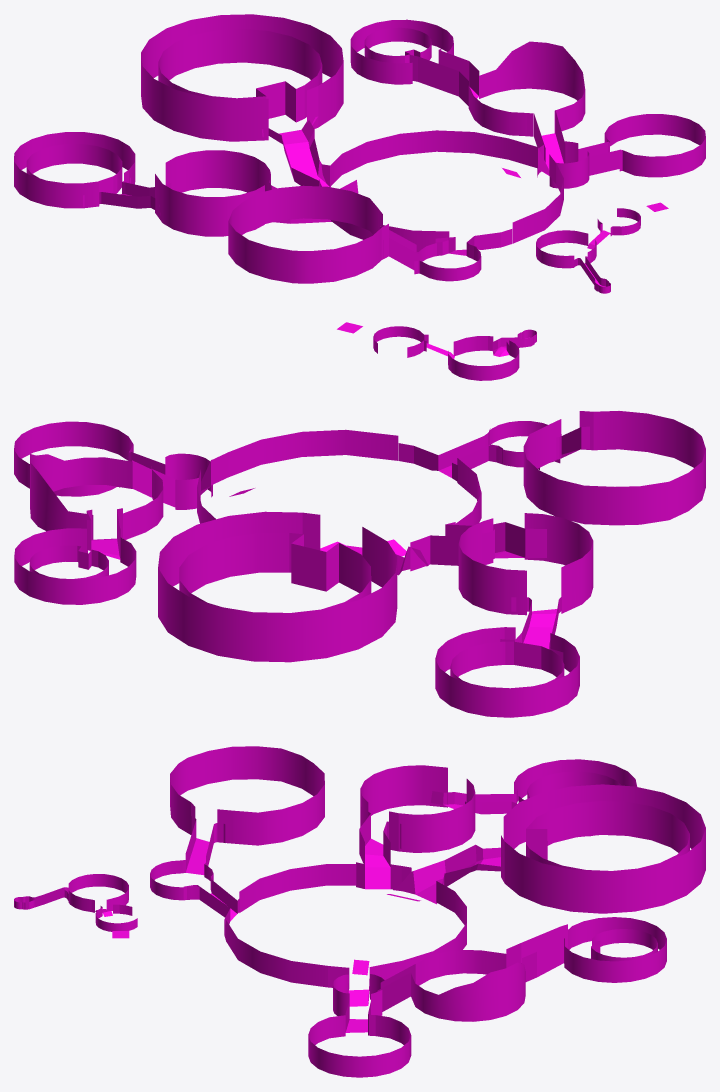
Rendered from meow.fbx.
3 views of the same model, one above another, from view 1: azimuth 30°, elevation 25°; view 2: azimuth 150°, elevation 25°; view 3: azimuth 270°, elevation 25° (orthographic). The views are drawn at different scales.
Parts seen in each view (by area): view 1: pCylinder166, pCylinder163, pCylinder159, pCylinder154, pCylinder161, pCylinder157, pCylinder160, pCylinder158, pCylinder168, pCylinder167, Invisible_Surface7, Invisible_Surface6 (+10 smaller); view 2: pCylinder166, pCylinder163, pCylinder159, pCylinder161, pCylinder160, pCylinder157, pCylinder154, pCylinder168, pCylinder158, pCube125, pCylinder167, pCube126 (+9 smaller); view 3: pCylinder166, pCylinder163, pCylinder154, pCylinder161, pCylinder157, pCylinder159, pCylinder158, pCylinder168, Invisible_Surface6, pCube125, Invisible_Surface7, pCylinder160 (+10 smaller).
Part boxes in pixels (x1,y1,x2,y2): pCylinder166: (141,14,343,141); pCylinder163: (228,185,388,283); pCylinder159: (158,29,322,122); pCylinder154: (321,130,563,251); pCylinder161: (155,150,270,236); pCylinder157: (468,41,585,136); pCylinder160: (14,132,135,208); pCylinder158: (604,114,705,177); pCylinder168: (350,19,453,84); pCylinder167: (26,144,122,193); Invisible_Surface7: (409,49,479,105); Invisible_Surface6: (262,116,330,187); pCylinder166: (158,511,397,662); pCylinder163: (523,411,705,525); pCylinder159: (179,533,371,609); pCylinder161: (458,513,593,615); pCylinder160: (435,627,579,717); pCylinder157: (30,454,163,539); pCylinder154: (197,429,481,525); pCylinder168: (14,528,136,604); pCylinder158: (14,421,133,496); pCube125: (410,522,546,571); pCylinder167: (450,641,564,683); pCube126: (398,428,502,481); pCylinder166: (501,784,705,913); pCylinder163: (170,746,324,845); pCylinder154: (226,864,466,988); pCylinder161: (360,765,475,852); pCylinder157: (411,950,525,1021); pCylinder159: (526,801,689,871); pCylinder158: (308,1014,411,1077); pCylinder168: (564,917,666,982); Invisible_Surface6: (393,844,503,904); pCube125: (356,807,411,889); Invisible_Surface7: (506,924,567,981); pCylinder160: (514,759,637,836).
Bounding box in the file's own units: 689 × 94.96 × 714.
